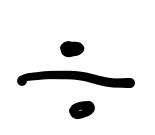div: (18, 39, 135, 118)
